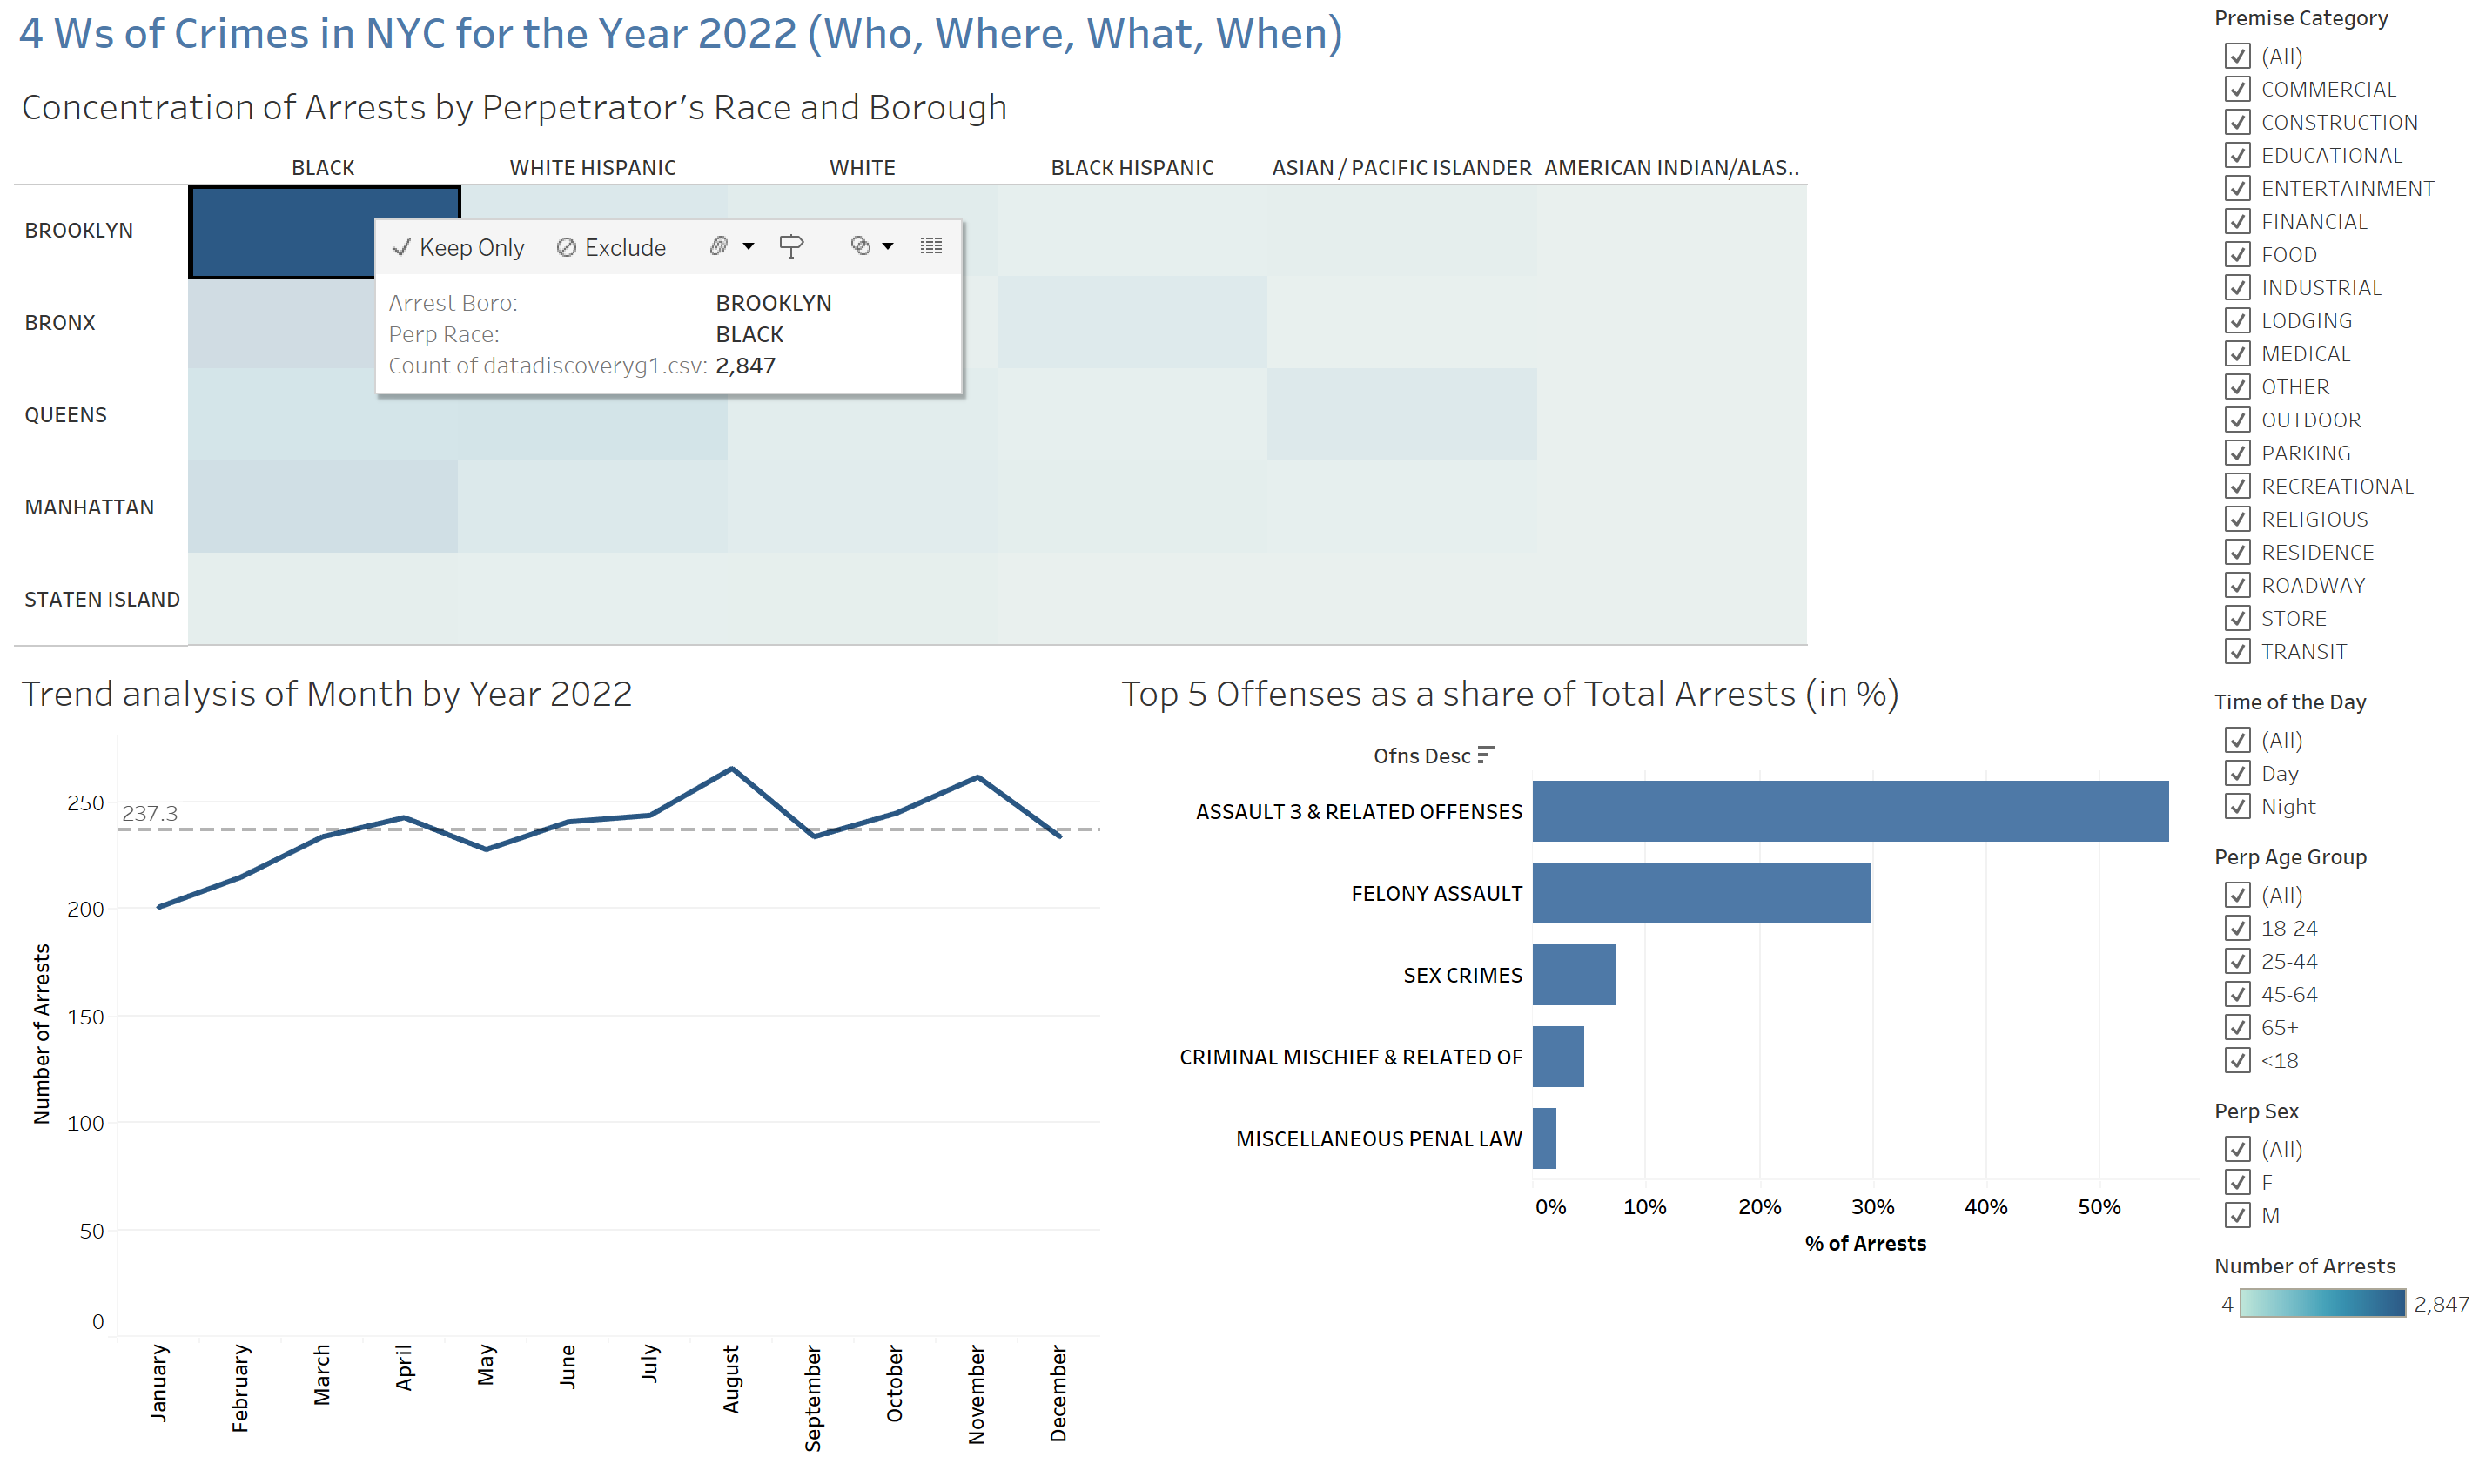

What the dashboard file says about the page in this screenshot:
{"tool":"tableau","page":{"name":"Dashboard 1","canvas":[1000,1000],"units":"permille","ordinal":0},"visuals":[{"type":"title","box":[6.5,11.2,856.8,57.3]},{"type":"filter","title":"Sheet 1","param":"[federated.1uaa87y0alt10f1caw00l0gi7who].[none:PREMISE_CATEGORY:nk]","box":[863.3,11.2,130.2,434.4]},{"type":"worksheet","title":"Sheet 1","mark":"Automatic","rows":["ARREST_BORO"],"cols":["PERP_RACE"],"box":[6.5,68.4,856.8,460.2]},{"type":"filter","title":"Sheet 1","param":"[federated.1uaa87y0alt10f1caw00l0gi7who].[none:Calculation_3592746637972099073:n","box":[863.3,445.5,130.2,124.3]},{"type":"worksheet","title":"Sheet 2","mark":"Automatic","rows":["datadiscoveryg1.csv_BE271B2FDEF4421B8A80113A9B1AC303"],"cols":["ARREST_DATE"],"box":[6.5,528.6,428.2,460.2]},{"type":"worksheet","title":"Sheet 3","mark":"Bar","rows":["OFNS_DESC"],"cols":["datadiscoveryg1.csv_BE271B2FDEF4421B8A80113A9B1AC303"],"box":[434.7,528.6,428.6,460.2]},{"type":"filter","title":"Sheet 1","param":"[federated.1uaa87y0alt10f1caw00l0gi7who].[none:PERP_AGE_GROUP:nk]","box":[863.3,569.8,130.2,203.9]},{"type":"filter","title":"Sheet 1","param":"[federated.1uaa87y0alt10f1caw00l0gi7who].[none:PERP_SEX:nk]","box":[863.3,773.8,130.2,124.3]},{"type":"legend","title":"Sheet 1","param":"[federated.1uaa87y0alt10f1caw00l0gi7who].[__tableau_internal_object_id__].[cnt:d","box":[863.3,898.1,130.2,90.8]}]}

Visuals, with their boxes on the dashboard's canvas, which has no fixed pixel size, in thousandths of its width and height (x1, y1, x2, y2). These are canvas units, not pixel positions in the 2479x1484 screenshot, which may show the page scaled, cropped or inside an application window:
title: [x1=6, y1=11, x2=863, y2=68]
"Sheet 1" filter: [x1=863, y1=11, x2=994, y2=446]
"Sheet 1" worksheet: [x1=6, y1=68, x2=863, y2=529]
"Sheet 1" filter: [x1=863, y1=446, x2=994, y2=570]
"Sheet 2" worksheet: [x1=6, y1=529, x2=435, y2=989]
"Sheet 3" worksheet (Bar marks): [x1=435, y1=529, x2=863, y2=989]
"Sheet 1" filter: [x1=863, y1=570, x2=994, y2=774]
"Sheet 1" filter: [x1=863, y1=774, x2=994, y2=898]
"Sheet 1" legend: [x1=863, y1=898, x2=994, y2=989]
